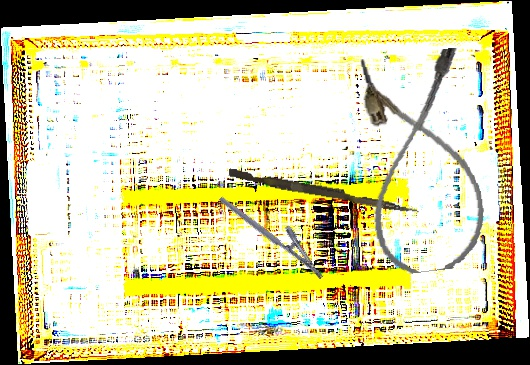Cannula: (354, 46, 491, 278)
Needle Holder: (218, 181, 335, 281)
Pusher: (227, 168, 421, 215)
